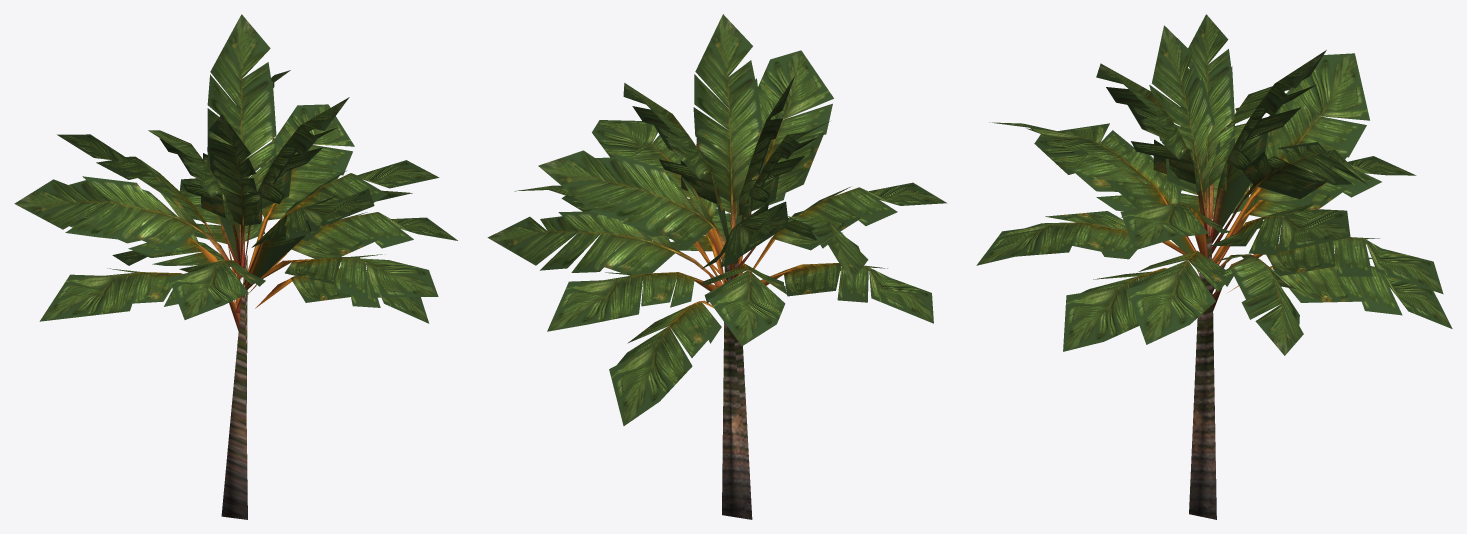
Rendered from palm4_lod1.fbx.
The picture shows the model from 3 angles, left to right: view 1: azimuth 30°, elevation 25°; view 2: azimuth 150°, elevation 25°; view 3: azimuth 270°, elevation 25°; orthographic projection. The views are drawn at different scales.
Parts seen in each view (by area): view 1: polySurface35; view 2: polySurface35; view 3: polySurface35.
Boxes of the visible parts, box(x1,y1,x2,y2) form: polySurface35: box(14, 14, 457, 519); polySurface35: box(487, 14, 946, 519); polySurface35: box(976, 14, 1452, 519).
Bounding box in the file's own units: 28.14 × 29.7 × 25.92.
Materials: 1 (1 with a texture image).
